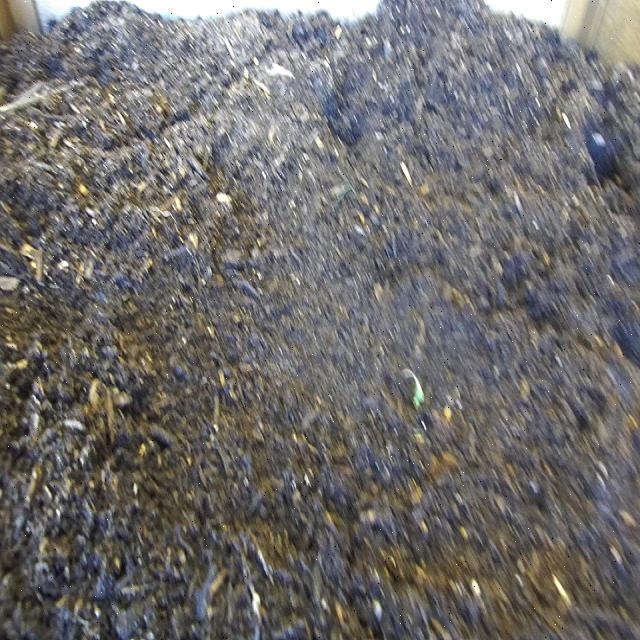Unhealthy: (392, 338, 432, 428)
